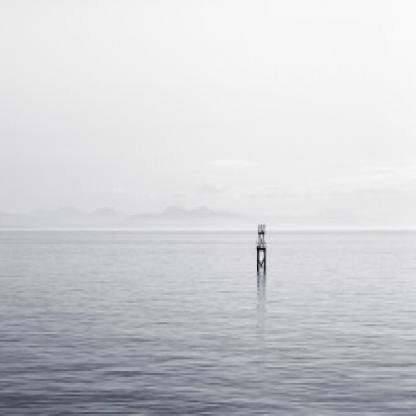buoy: (251, 217, 270, 283)
